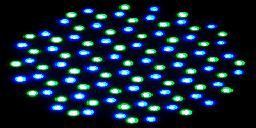LED: (9, 1, 252, 119)
